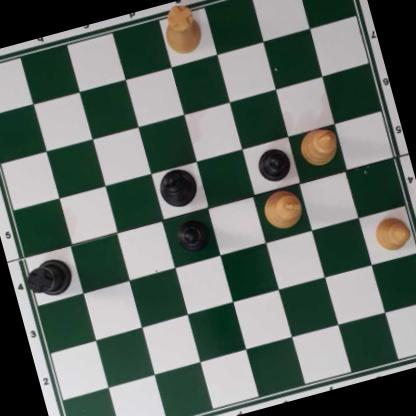black-king: (152, 164, 200, 211)
black-pawn: (173, 215, 215, 257), (253, 144, 293, 185)
white-bishop: (295, 123, 343, 171)
white-king: (260, 184, 305, 233)
white-pawn: (369, 210, 414, 255)
white-rook: (157, 1, 207, 59), (24, 254, 77, 303)
